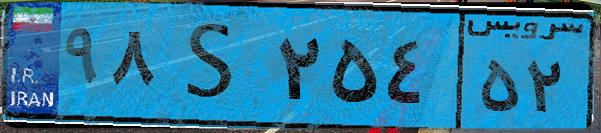2: (270, 28, 330, 110), (525, 38, 570, 115)
4: (385, 28, 445, 110)
5: (330, 28, 385, 110), (475, 38, 525, 113)
8: (110, 28, 158, 98)
9: (57, 26, 110, 100)
S: (158, 12, 270, 120)
